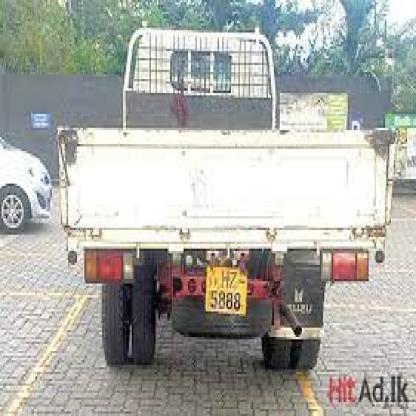Lorry back: (57, 28, 396, 369)
number plate: (206, 268, 246, 313)
